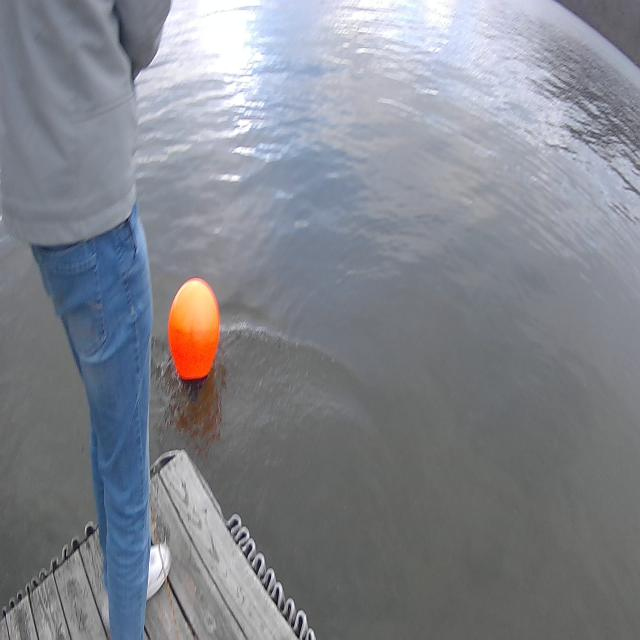Buoy: (167, 264, 223, 394)
